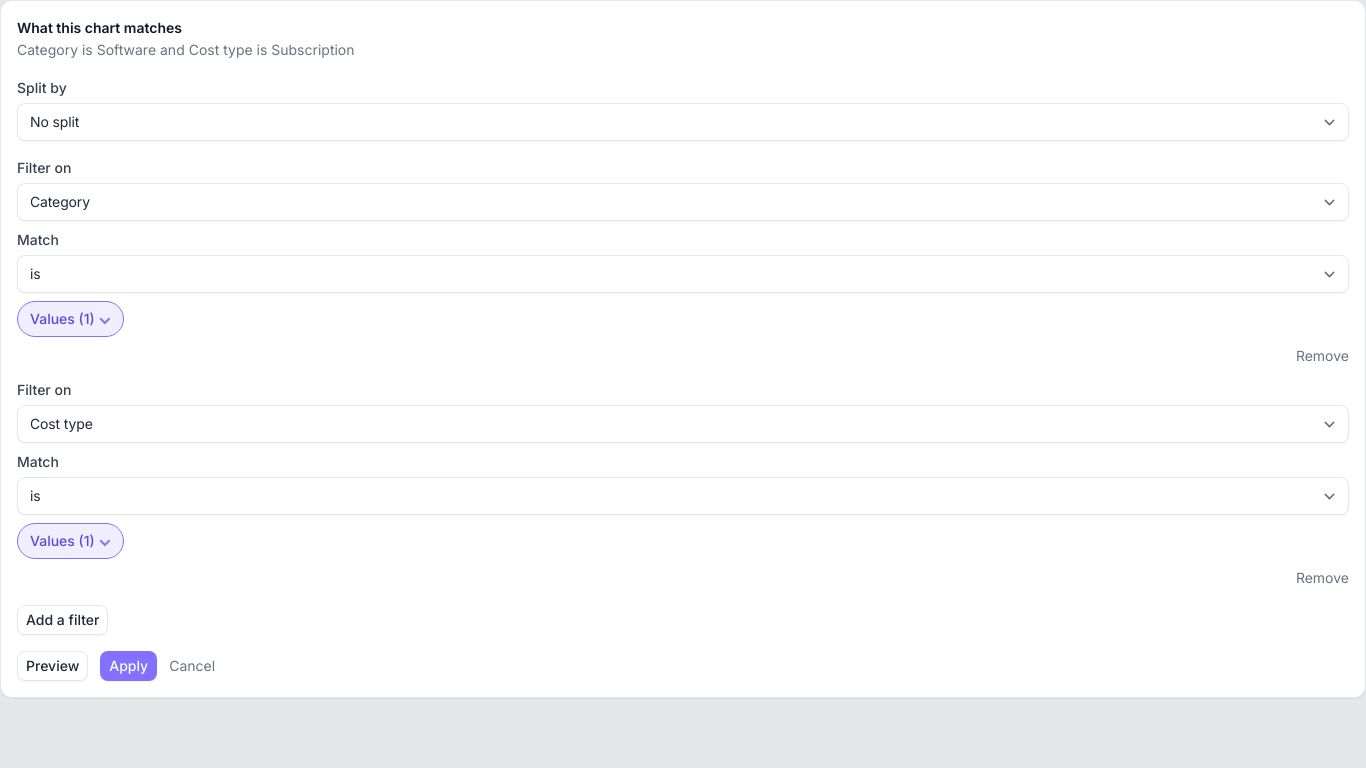
ChartRuleEditor › removes a row without touching its siblings
Expected: the number of list items with test id "rule-editor-row" is 2, [17,157,1349,367]; [17,379,1349,589]
Click the button with aria-label "Remove filter 1".
click(1322, 356)  # box [1296,345,1349,367]
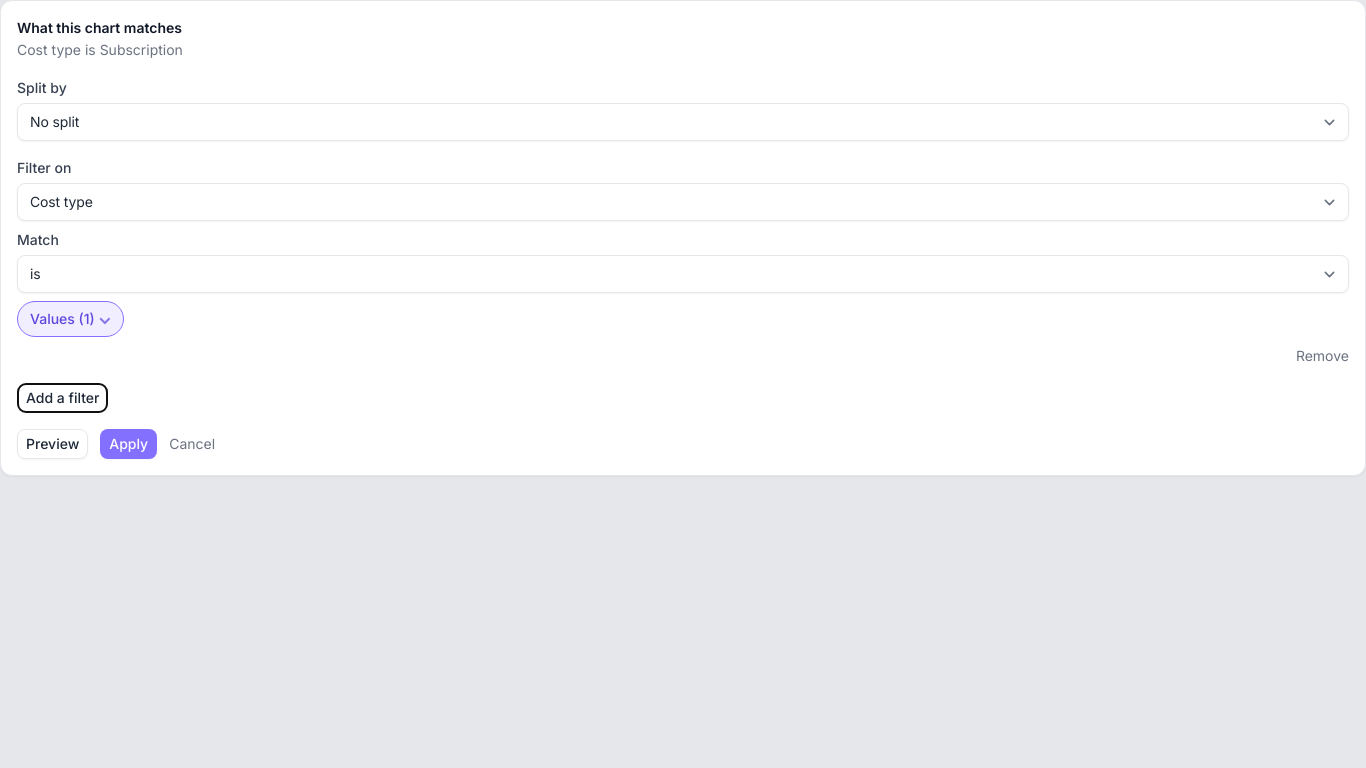
Expected: the number of list items with test id "rule-editor-row" is 1, [17,157,1349,367]
Expected: the text with test id "rule-editor-summary" reads "Cost type is Subscription", [17,41,183,58]
